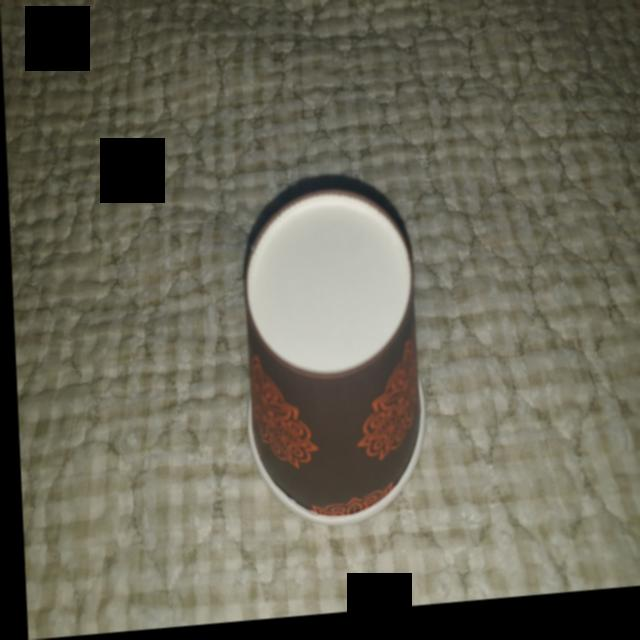cups: (226, 180, 431, 539)
